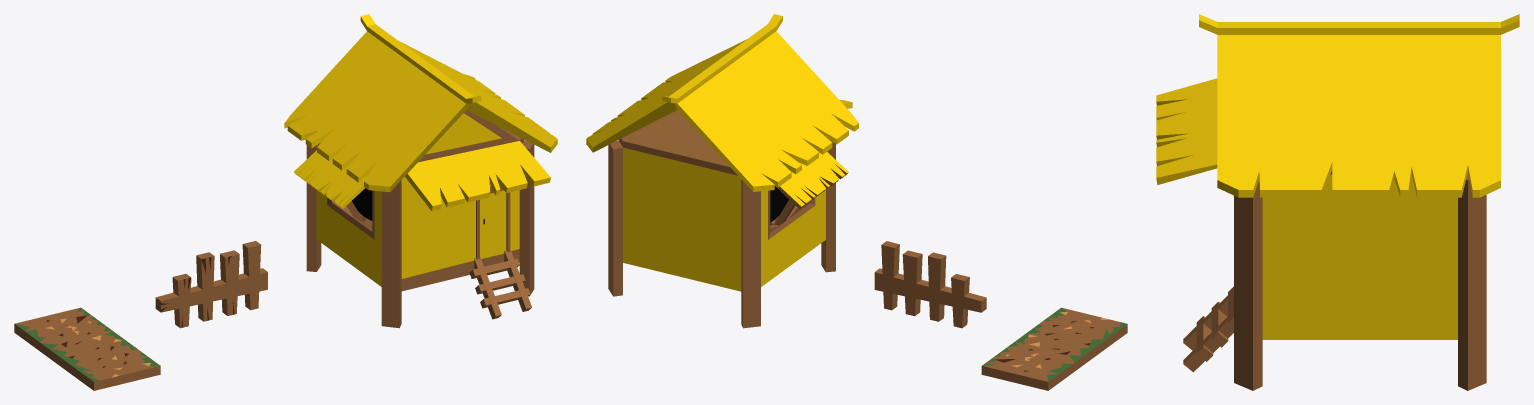
File: luksongbaka.fbx
3 renders of one model, left to right at view 1: azimuth 30°, elevation 25°; view 2: azimuth 150°, elevation 25°; view 3: azimuth 270°, elevation 25°, orthographic. The views are drawn at different scales.
Parts seen in each view (by area): view 1: kubo, floor, fence; view 2: kubo, floor, fence; view 3: kubo.
Boxes of the visible parts, <box> form: kubo: <box>284,14,557,328</box>; floor: <box>14,307,160,390</box>; fence: <box>155,241,267,328</box>; kubo: <box>586,14,858,328</box>; floor: <box>981,307,1127,390</box>; fence: <box>874,241,986,328</box>; kubo: <box>1156,14,1519,390</box>.
Size of the model in its own units: 3989 by 1855 by 1905.
